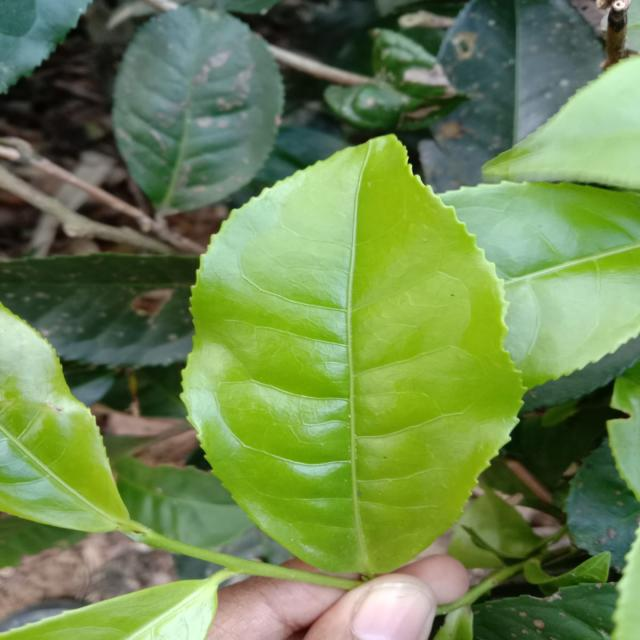Category C 4-7 days: (167, 115, 540, 600)
